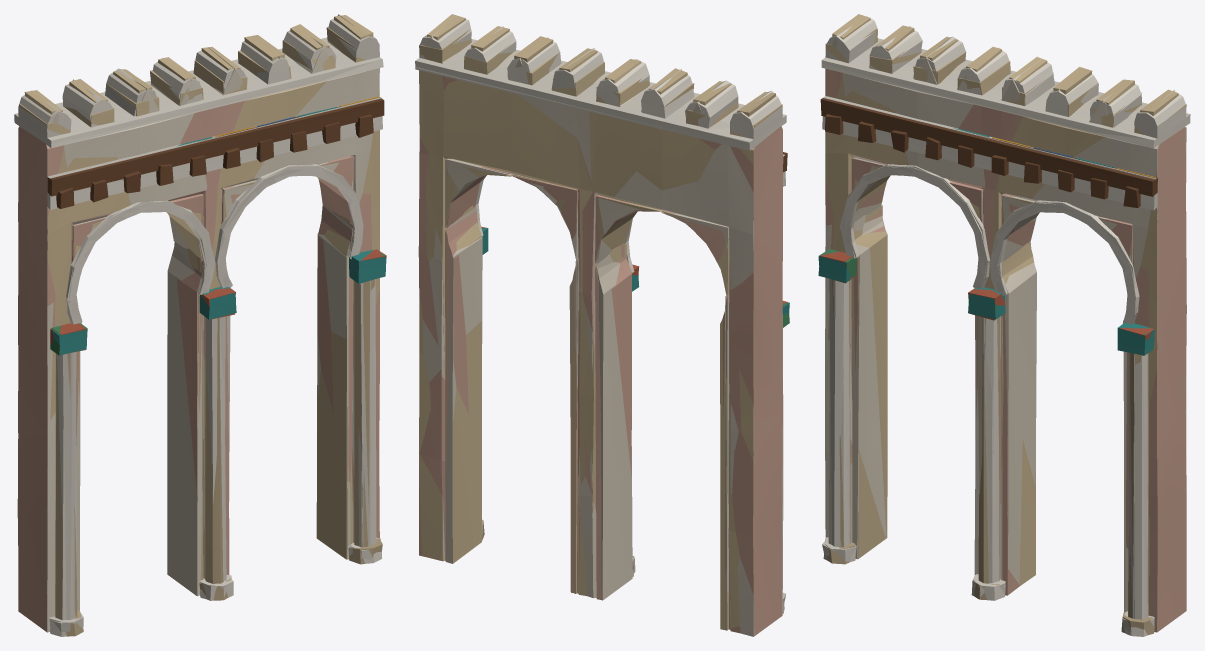
File: arcade.glb
3 renders of one model, left to right at view 1: azimuth 30°, elevation 25°; view 2: azimuth 150°, elevation 25°; view 3: azimuth 330°, elevation 25°, orthographic.
Parts seen in each view (by area): view 1: arcade.v1.mesh, arcade.v2.mesh, arcade.v0.mesh; view 2: arcade.v1.mesh, arcade.v0.mesh, arcade.v2.mesh; view 3: arcade.v1.mesh, arcade.v2.mesh, arcade.v0.mesh.
Boxes of the visible parts, left/top/right/bottom form: arcade.v1.mesh: left=14, top=18, right=384, bottom=636; arcade.v2.mesh: left=14, top=14, right=386, bottom=633; arcade.v0.mesh: left=18, top=15, right=386, bottom=636; arcade.v1.mesh: left=415, top=19, right=789, bottom=635; arcade.v0.mesh: left=415, top=14, right=789, bottom=630; arcade.v2.mesh: left=415, top=26, right=787, bottom=636; arcade.v1.mesh: left=818, top=16, right=1190, bottom=635; arcade.v2.mesh: left=820, top=26, right=1190, bottom=635; arcade.v0.mesh: left=818, top=14, right=1186, bottom=636.
Bounding box in the file's own units: 2 × 2.99 × 0.4606.
